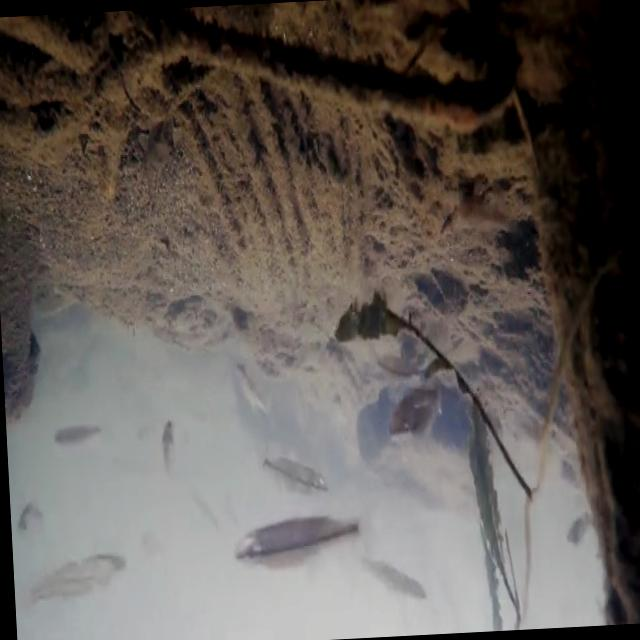Cakil Baligi: (226, 512, 370, 578)
